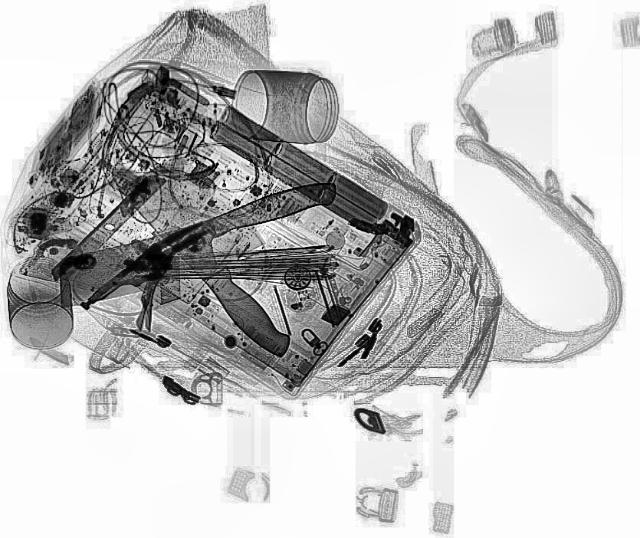Knife: (114, 150, 336, 362), (41, 178, 356, 308)
